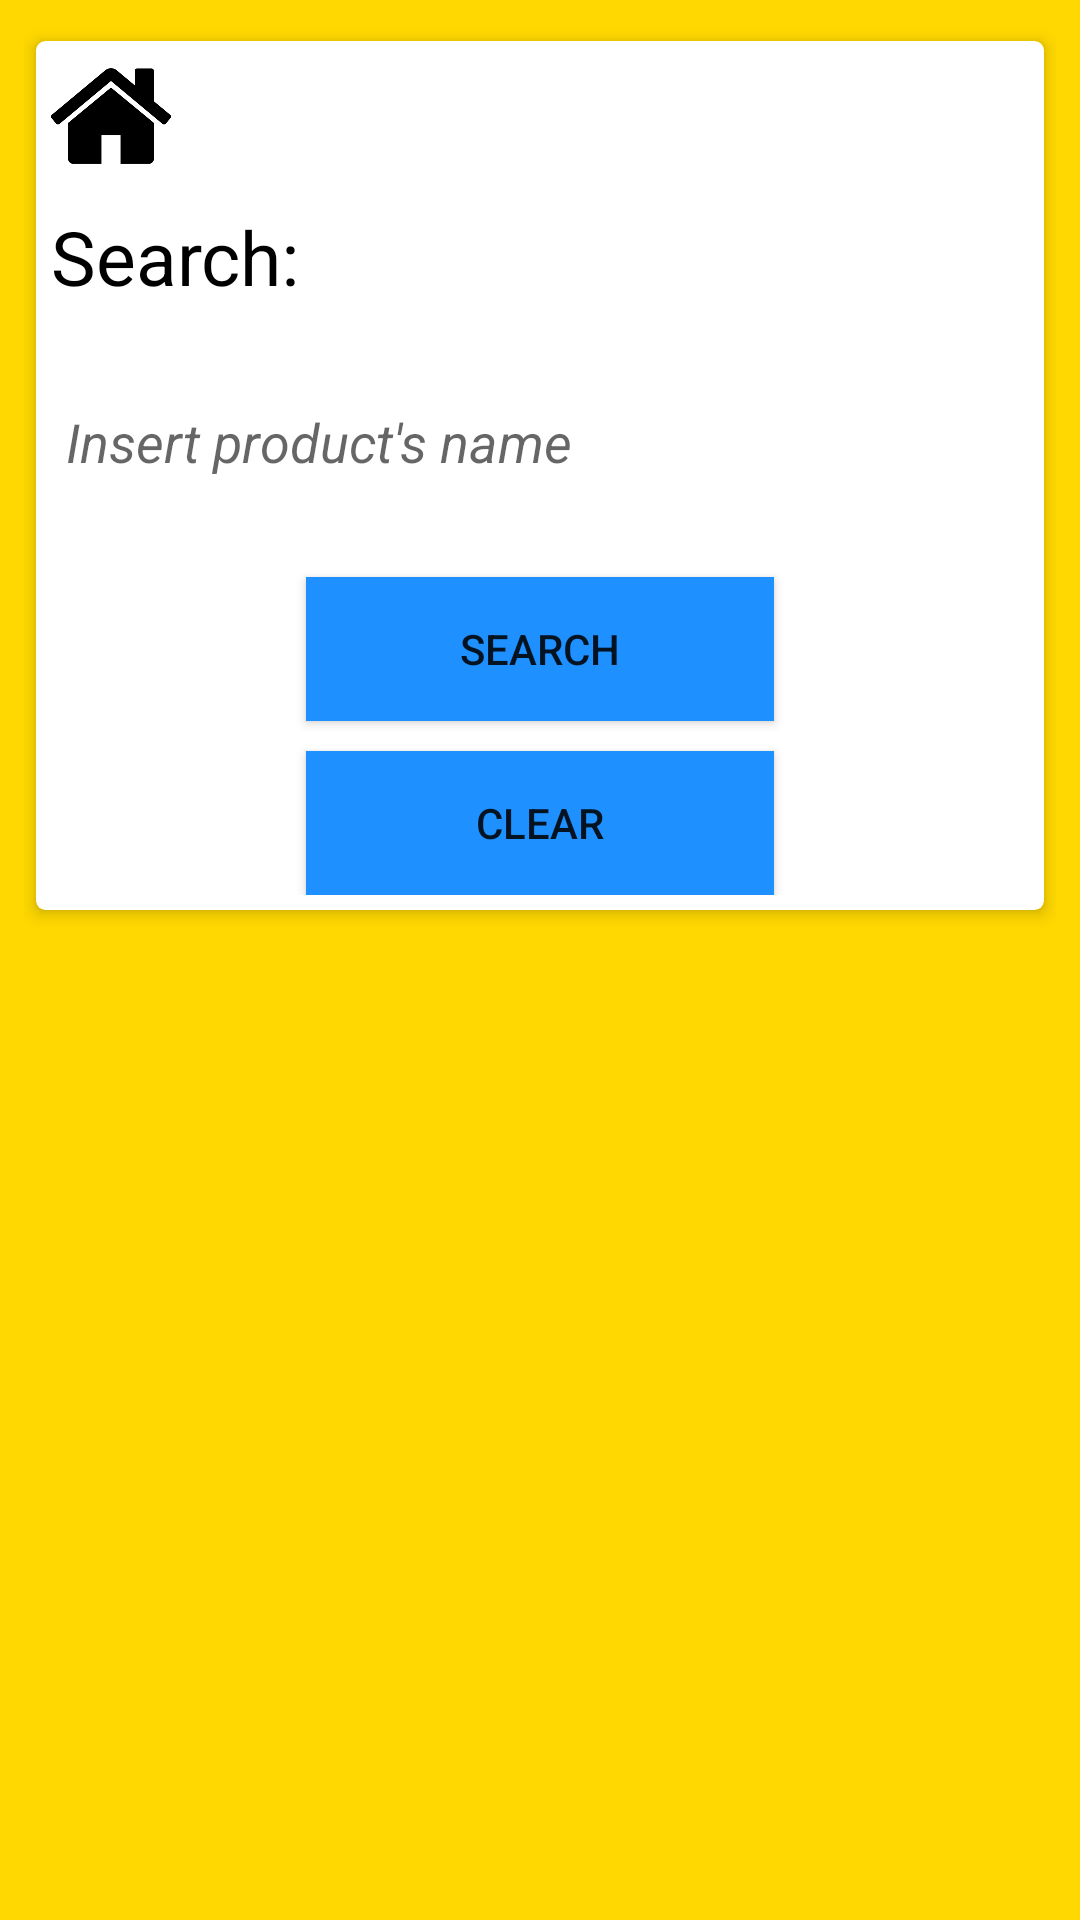

Icon bounding boxes for this 1080px x 1920px phone screenshot, format (x1, y1, x2, y2):
home: (51, 68, 171, 164)
